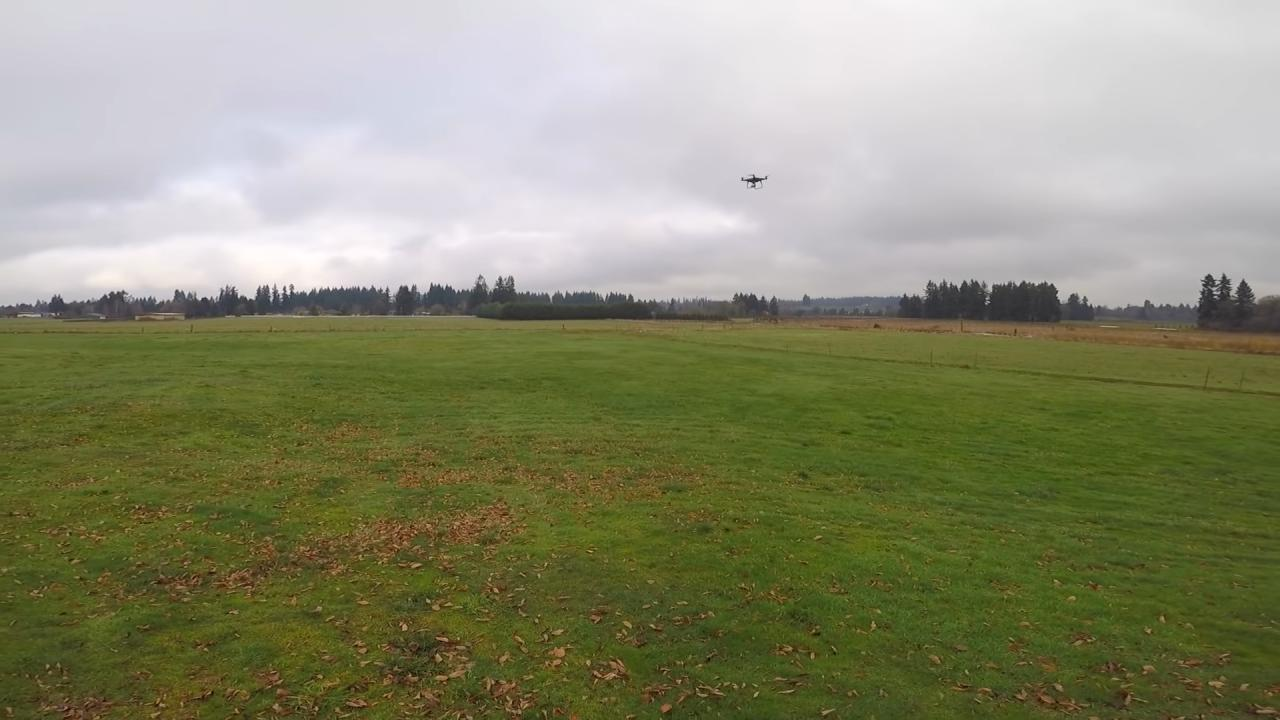Drone: (734, 166, 778, 198)
